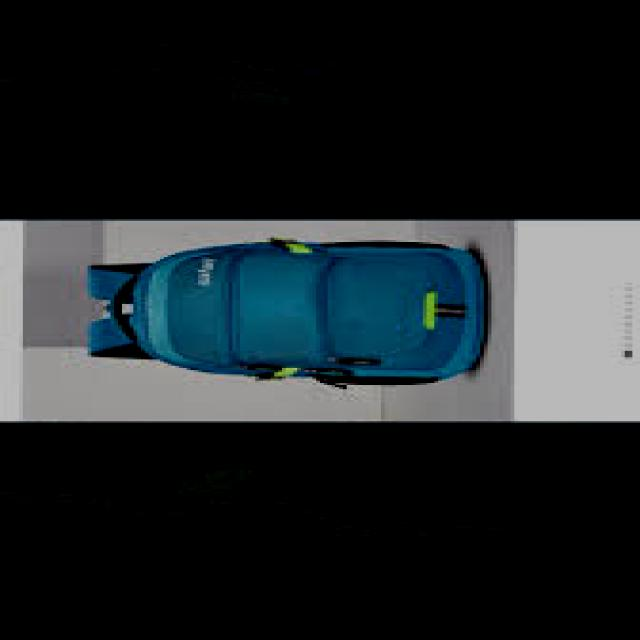backpack: (85, 238, 485, 390)
